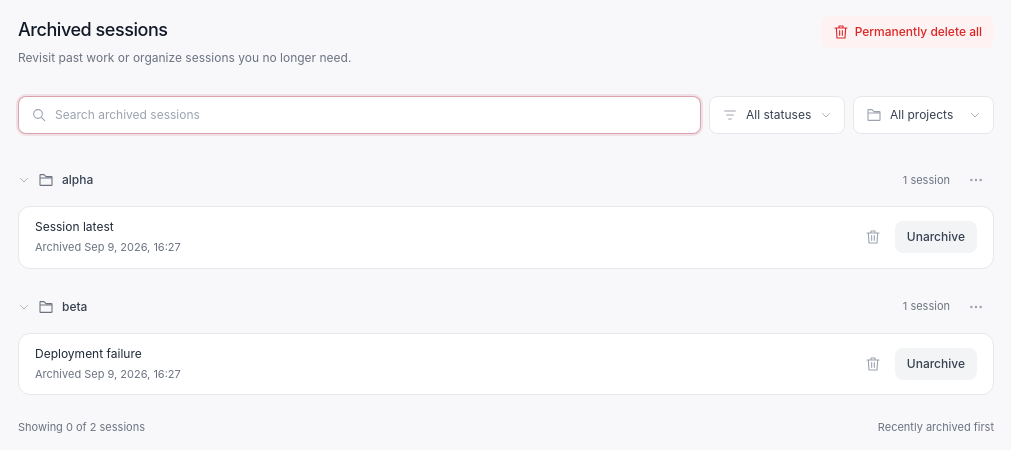
it: archived session management › keeps filters editable while requests are pending and discards superseded results
The width and height of the screenshot is (1011, 450).
Expected: the link "Session latest Archived Sep 9, 2026, 16:27" is shown, [34,219,181,262]
In the search field labelled "Search archived sessions": (372, 115) [55,97,688,133], type "Deployment"
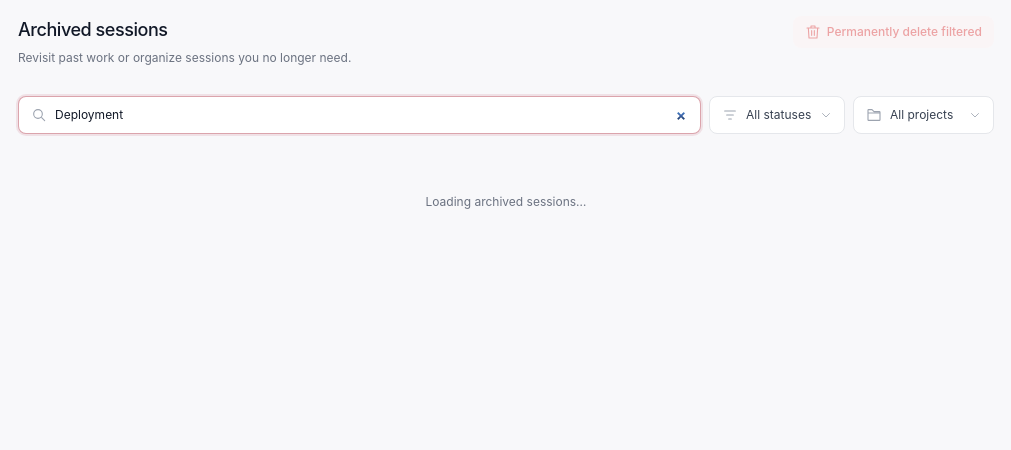
Expected: the 1st dropdown named "Filter by status" is enabled, [746,97,844,133]
Result: the button "Permanently delete filtered" is disabled at [793,16,994,48]
Replace the text in the search field named "Search archived sessions" with "failure": (372, 115) [55,97,688,133]
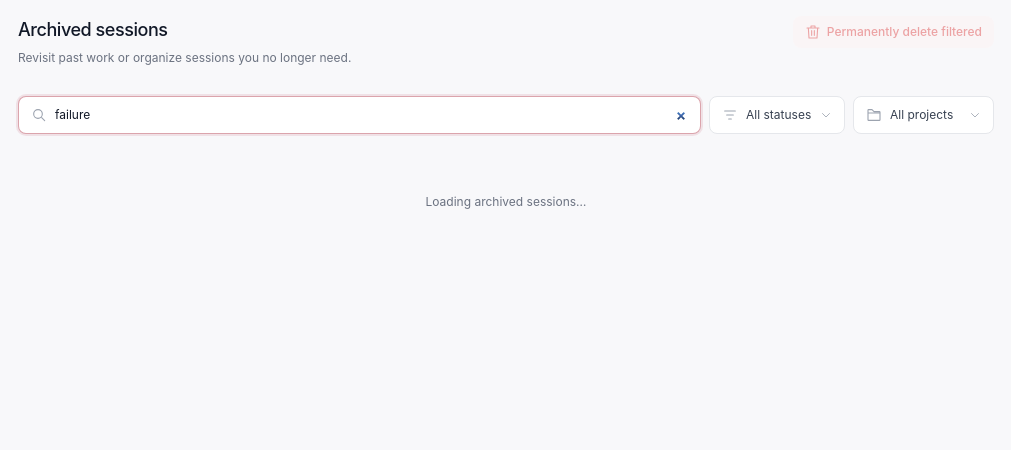
Select "Failed" in the 1st dropdown named "Filter by status": (795, 115) [746,97,844,133]
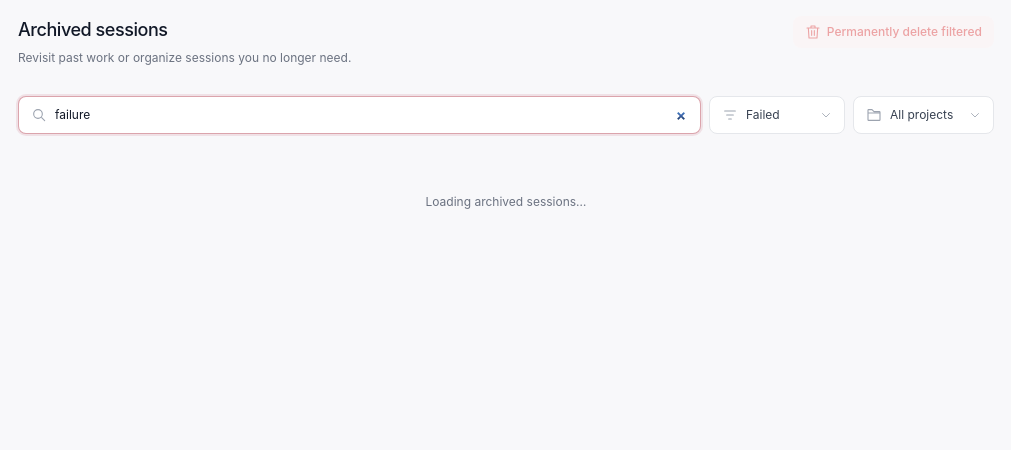
Select "other/beta" in the 2nd dropdown named "Filter by project": (942, 115) [890,97,993,133]
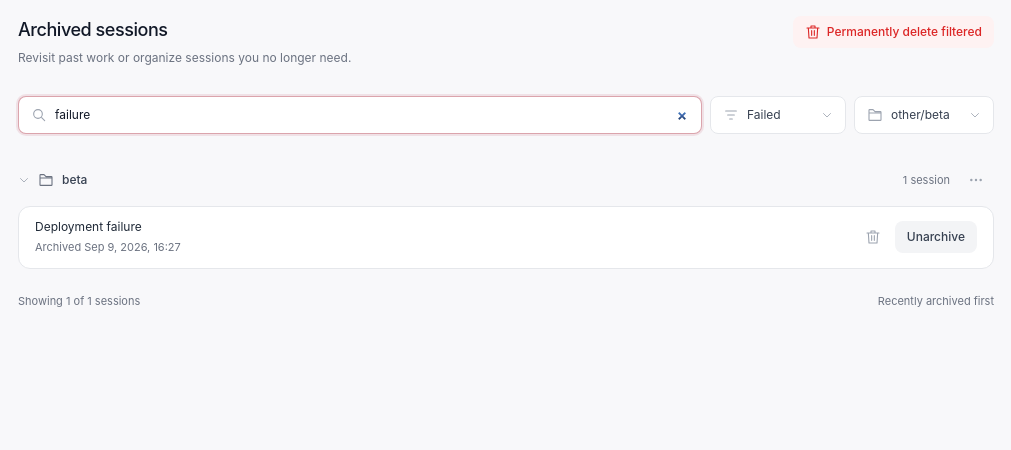
Expected: the link "Session latest" is not shown
Result: the link "Deployment failure Archived Sep 9, 2026, 16:27" is shown at [34,219,181,262]
Result: the button "Permanently delete filtered" is enabled at [793,16,994,48]
